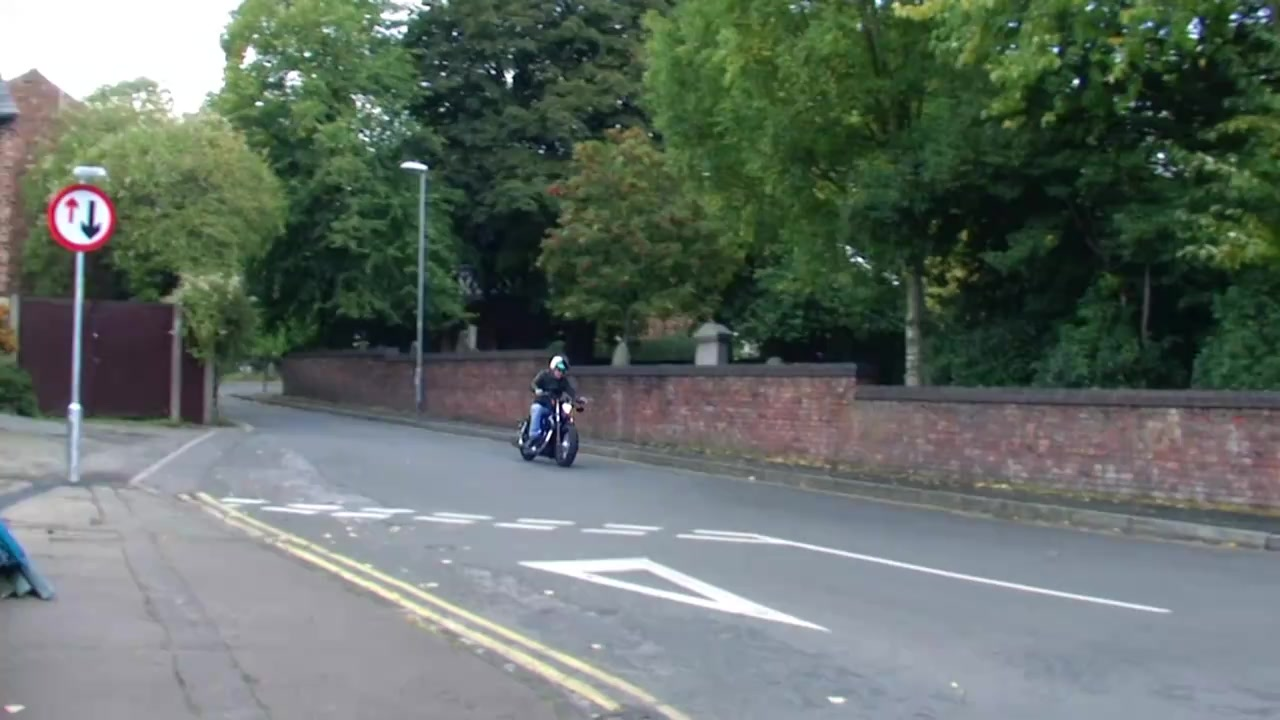motorbike: (510, 391, 592, 465)
